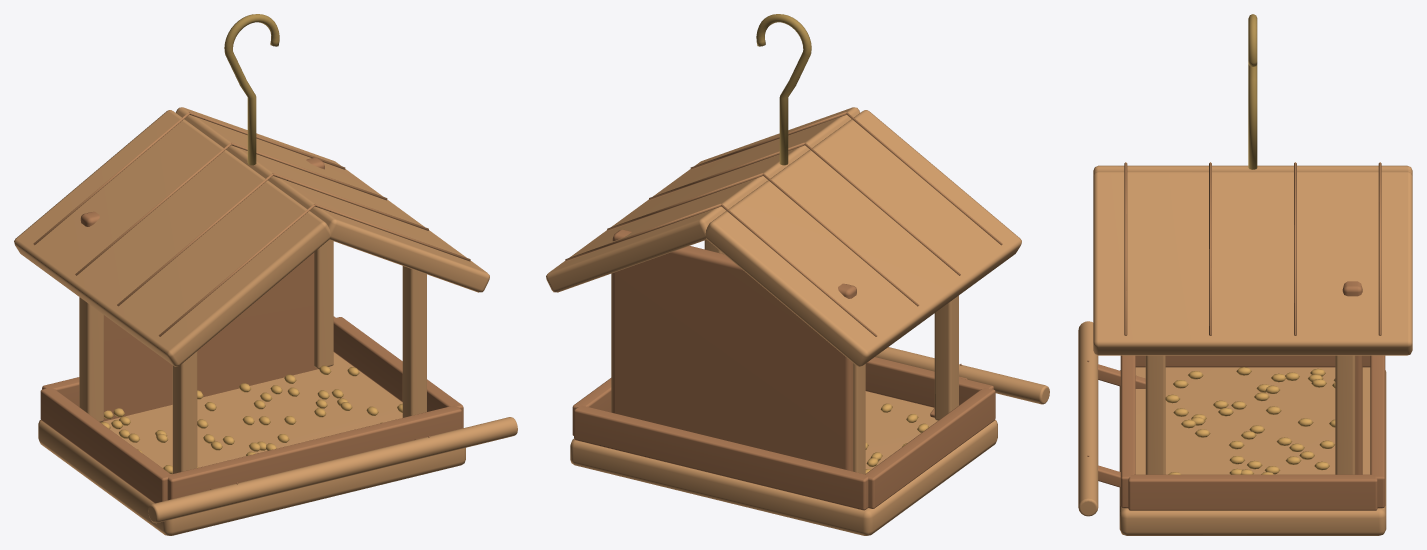
Rendered from bird_feeder.glb.
3 renders of one model, left to right at view 1: azimuth 30°, elevation 25°; view 2: azimuth 150°, elevation 25°; view 3: azimuth 270°, elevation 25°, orthographic.
Visible parts, largest first — view 1: feeder; view 2: feeder; view 3: feeder.
Part boxes in pixels (bbox=[...]): feeder: bbox=[14, 14, 517, 535]; feeder: bbox=[546, 14, 1049, 535]; feeder: bbox=[1078, 14, 1412, 535].
Bounding box in the file's own units: 0.17 × 0.1978 × 0.134.
